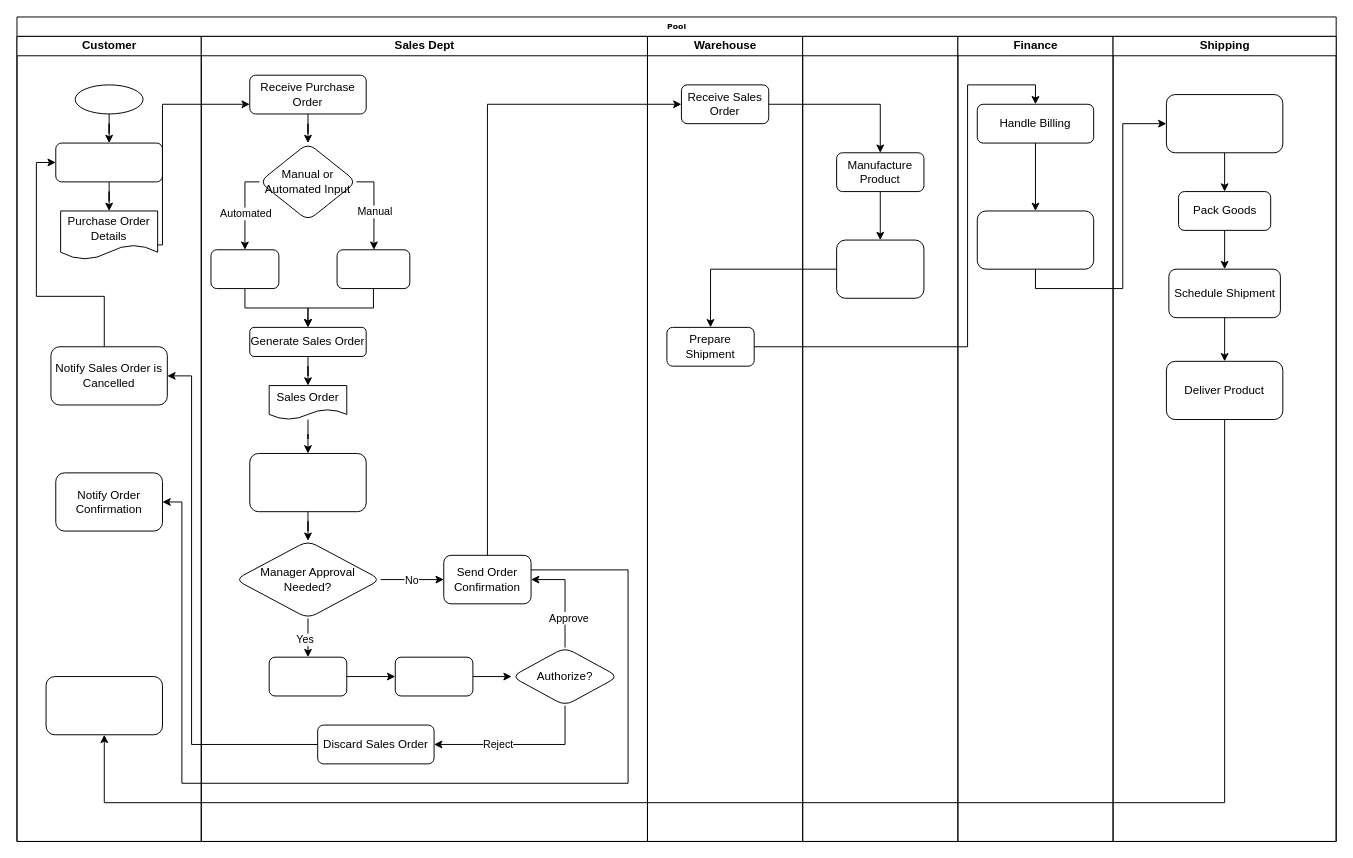
Image size: 1353x858. Some labels were removed from this diagram. Here are the shapes that lost their labels. From the top down, the box of each, then its label:
(74, 84, 143, 114): Start
(1165, 94, 1283, 153): Prepare Shipping Labels
(55, 142, 162, 182): Submits purchase order
(976, 210, 1094, 269): Record Transaction
(210, 249, 279, 289): Automated Input
(336, 249, 410, 289): Manual Input
(836, 239, 924, 298): Send Goods to Warehouse
(802, 35, 958, 841): Production
(249, 453, 366, 512): Verify product availability and pricing
(268, 656, 347, 696): Notify Sales Manager
(394, 656, 473, 696): Approve Sales Order
(45, 676, 162, 735): Await Delivery
